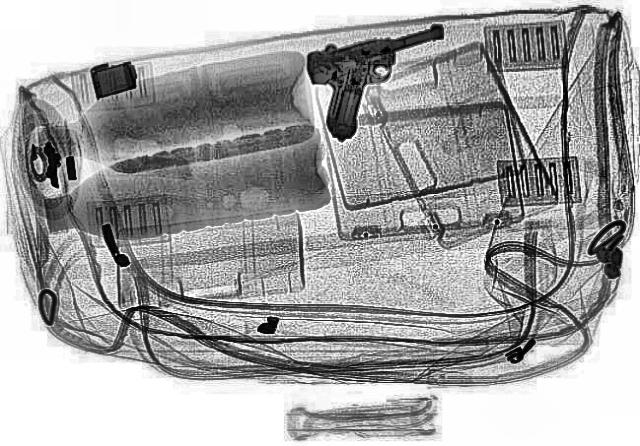Gun: (298, 22, 472, 142)
